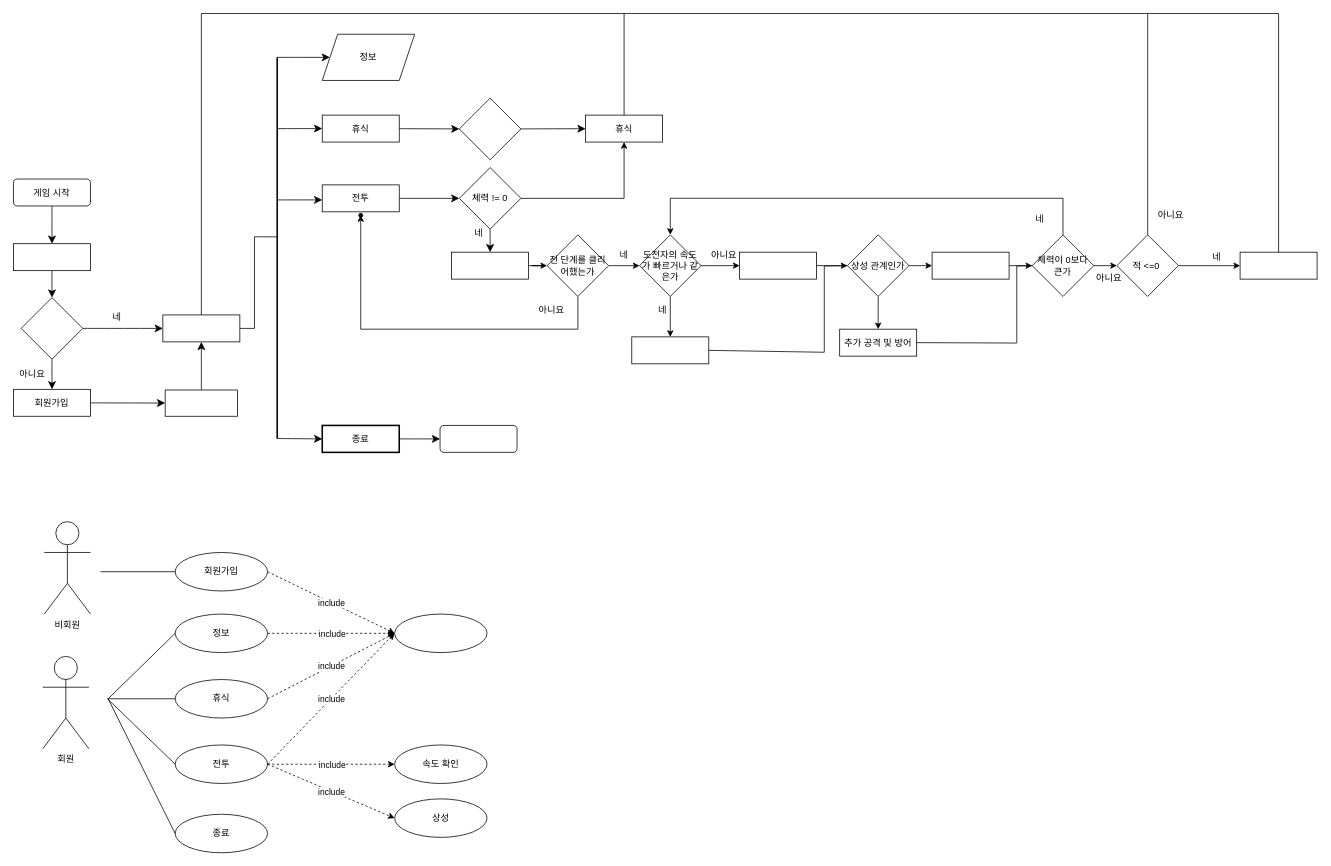
Image size: 1331x866. Some labels were removed from this diagram. The shapes that lost their labels are listed below. From the top down, each one's box as (x1, y1, x2, y2) in pixels, then its label:
(459, 97, 521, 160): 체력 != full
(13, 243, 90, 271): 로그인
(451, 251, 529, 279): 단계 선택
(739, 251, 817, 279): 적의 공격
(931, 251, 1009, 279): 기본 데미지
(1239, 251, 1317, 279): 승리 보상
(20, 297, 83, 359): 플레이 유무
(162, 314, 240, 342): 메뉴
(631, 336, 709, 364): 도전자의 공격
(164, 389, 238, 416): 포켓몬 선택
(439, 425, 517, 452): 게임 종료
(394, 613, 487, 653): 회원인증
